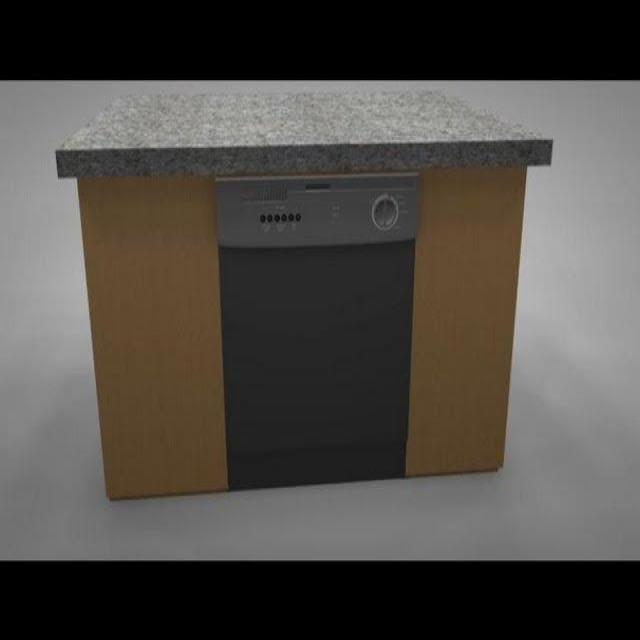dishwasher: (214, 167, 419, 490)
